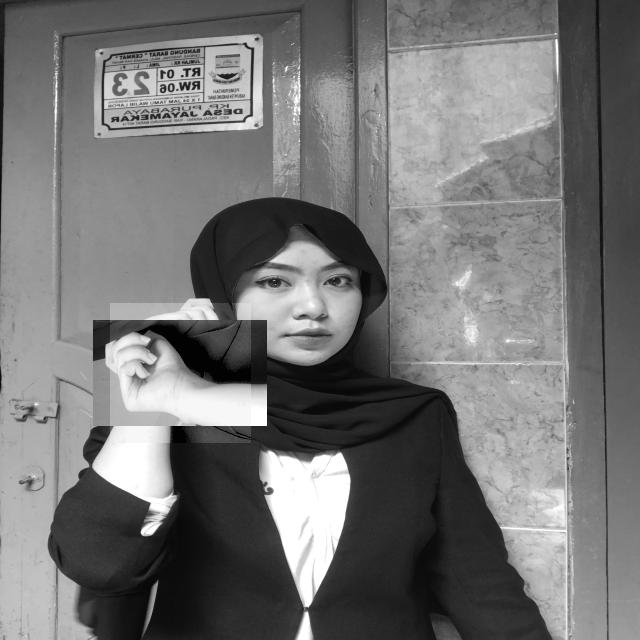ibu: (110, 303, 251, 443)
